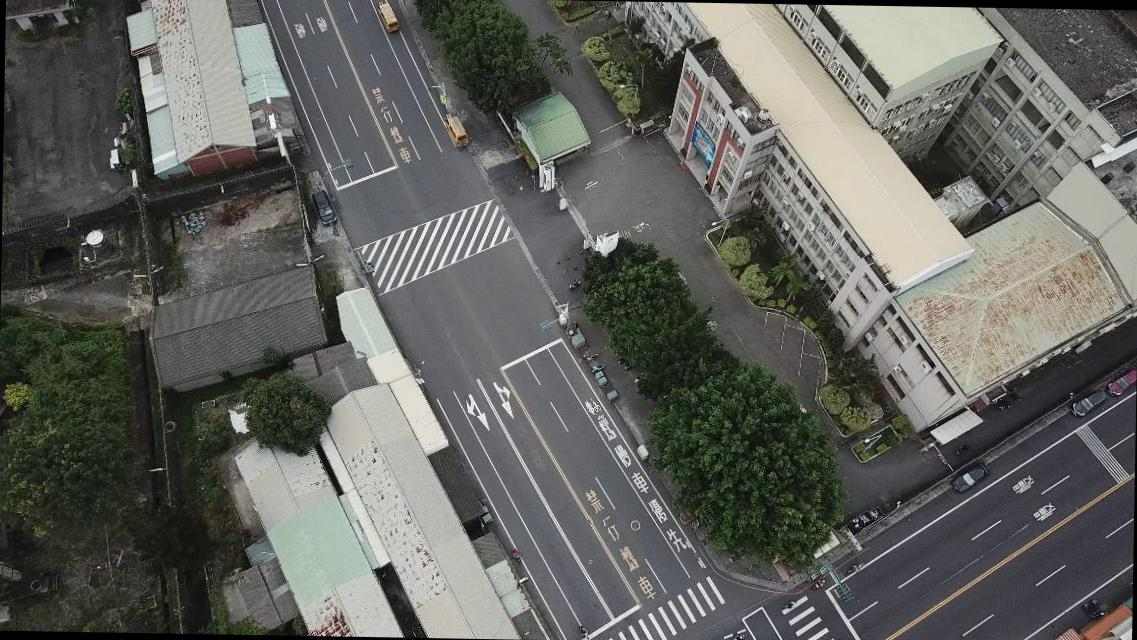vehicle: (953, 462, 991, 496), (1072, 388, 1106, 418), (443, 112, 470, 146), (312, 188, 336, 226), (1106, 368, 1136, 396), (375, 2, 401, 33)
